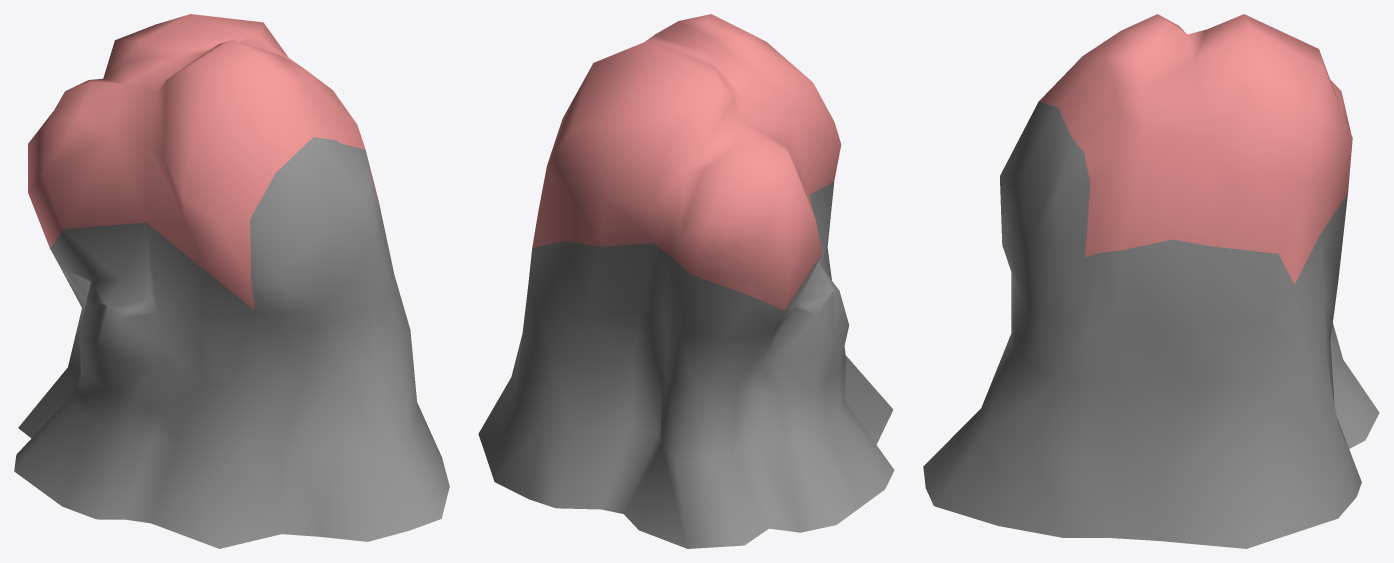
Rendered from sporeseastone02.gltf.
3 renders of one model, left to right at view 1: azimuth 30°, elevation 25°; view 2: azimuth 150°, elevation 25°; view 3: azimuth 270°, elevation 25°, orthographic. The views are drawn at different scales.
Visible parts, largest first — view 1: sporeseastone02; view 2: sporeseastone02; view 3: sporeseastone02.
Boxes of the visible parts, x1,y1,x2,y2 form: sporeseastone02: [14, 14, 449, 548]; sporeseastone02: [478, 14, 894, 548]; sporeseastone02: [923, 14, 1379, 548].
Size of the model in its own units: 2.26 by 2.55 by 2.43.
